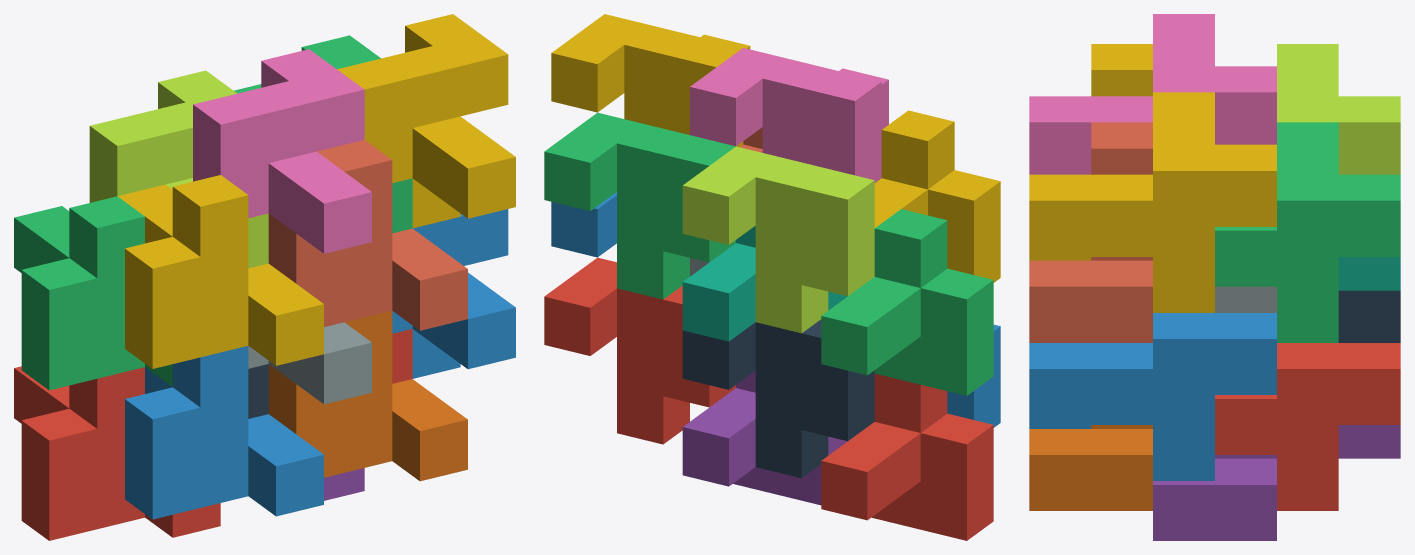
Rendered from tiling.obj.
3 views of the same model, side by side, from view 1: azimuth 30°, elevation 25°; view 2: azimuth 150°, elevation 25°; view 3: azimuth 270°, elevation 25° (orthographic). The views are drawn at different scales.
Visible parts, largest first — view 1: copy_1_domain_4, copy_2_domain_4, copy_1_domain_2, copy_2_domain_8, copy_1_domain_3, copy_1_domain_1, copy_1_domain_8, copy_1_domain_6, copy_2_domain_3, copy_2_domain_6, copy_2_domain_2, copy_2_domain_7 (+3 smaller); view 2: copy_2_domain_3, copy_1_domain_3, copy_1_domain_1, copy_2_domain_7, copy_2_domain_4, copy_2_domain_1, copy_2_domain_5, copy_2_domain_8, copy_1_domain_4, copy_1_domain_5, copy_1_domain_7, copy_2_domain_6 (+1 smaller); view 3: copy_2_domain_8, copy_2_domain_6, copy_2_domain_7, copy_2_domain_5, copy_2_domain_4, copy_1_domain_8, copy_1_domain_5, copy_1_domain_6, copy_2_domain_3, copy_1_domain_4, copy_2_domain_1, copy_1_domain_7 (+1 smaller).
Part boxes in pixels (left/top/right/bottom): copy_1_domain_4: left=117, top=175, right=323, bottom=368; copy_2_domain_4: left=193, top=49, right=371, bottom=253; copy_1_domain_2: left=125, top=346, right=323, bottom=519; copy_2_domain_8: left=337, top=14, right=515, bottom=228; copy_1_domain_3: left=14, top=196, right=172, bottom=390; copy_1_domain_1: left=14, top=366, right=220, bottom=540; copy_1_domain_8: left=268, top=140, right=467, bottom=330; copy_1_domain_6: left=268, top=310, right=467, bottom=481; copy_2_domain_3: left=89, top=70, right=268, bottom=268; copy_2_domain_6: left=392, top=209, right=515, bottom=378; copy_2_domain_2: left=248, top=322, right=371, bottom=404; copy_2_domain_7: left=234, top=35, right=412, bottom=233; copy_2_domain_3: left=682, top=146, right=874, bottom=333; copy_1_domain_3: left=821, top=209, right=993, bottom=395; copy_1_domain_1: left=821, top=373, right=993, bottom=540; copy_2_domain_7: left=544, top=112, right=735, bottom=299; copy_2_domain_4: left=690, top=48, right=888, bottom=182; copy_2_domain_1: left=682, top=319, right=874, bottom=478; copy_2_domain_5: left=544, top=257, right=735, bottom=444; copy_2_domain_8: left=551, top=14, right=750, bottom=147; copy_1_domain_4: left=874, top=110, right=1000, bottom=282; copy_1_domain_5: left=682, top=370, right=847, bottom=505; copy_1_domain_7: left=682, top=226, right=847, bottom=341; copy_2_domain_6: left=551, top=192, right=616, bottom=257; copy_2_domain_8: left=1029, top=92, right=1276, bottom=312; copy_2_domain_6: left=1029, top=313, right=1276, bottom=480; copy_2_domain_7: left=1215, top=122, right=1400, bottom=342; copy_2_domain_5: left=1215, top=343, right=1400, bottom=510; copy_2_domain_4: left=1029, top=14, right=1276, bottom=174; copy_1_domain_8: left=1029, top=122, right=1152, bottom=342; copy_1_domain_5: left=1153, top=425, right=1400, bottom=540; copy_1_domain_6: left=1029, top=425, right=1152, bottom=510; copy_2_domain_3: left=1277, top=44, right=1400, bottom=174; copy_1_domain_4: left=1029, top=44, right=1152, bottom=260; copy_2_domain_1: left=1338, top=290, right=1400, bottom=342; copy_1_domain_7: left=1338, top=257, right=1400, bottom=290.
Bounding box in the file's own units: 9 × 8 × 6.
